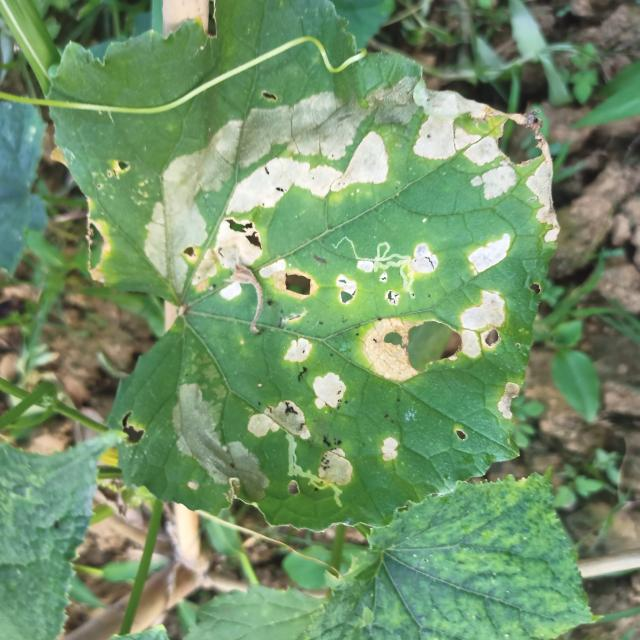disease_cucumber: (137, 73, 441, 291), (239, 289, 526, 499), (411, 65, 565, 297)
